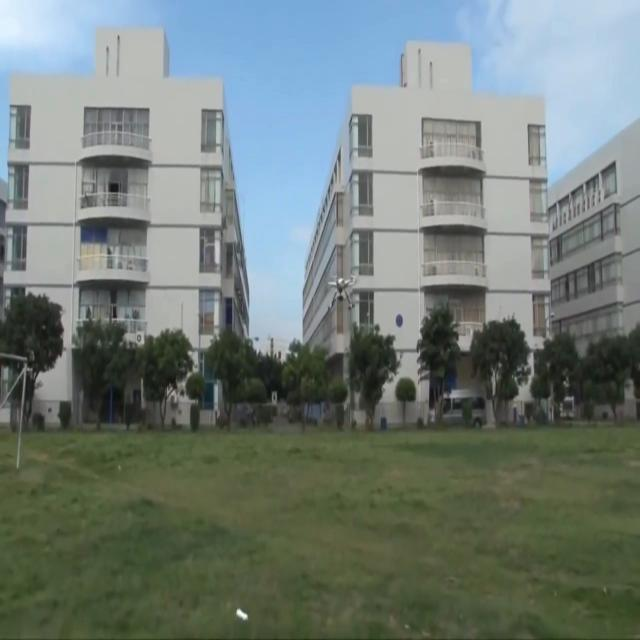drone: (327, 274, 356, 310)
